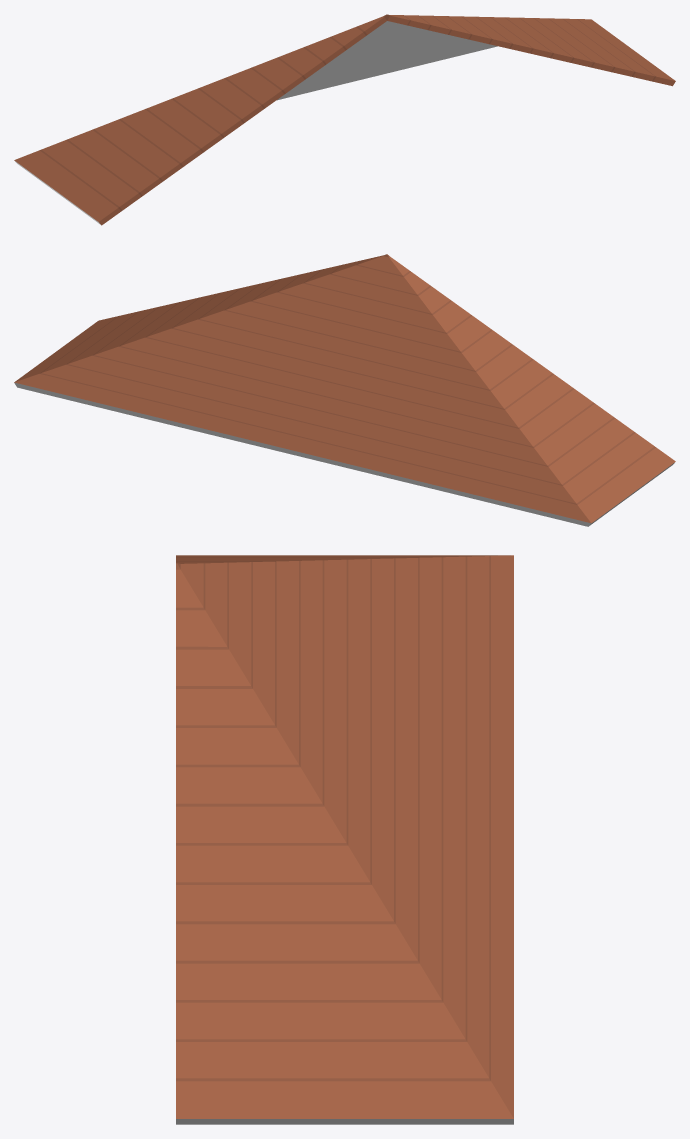
The model's file is Roof5_C5_02.fbx.
3 renders of one model, top to bottom at view 1: azimuth 30°, elevation 25°; view 2: azimuth 150°, elevation 25°; view 3: azimuth 270°, elevation 25°, orthographic. The views are drawn at different scales.
Visible parts, largest first — view 1: Roof5_C5_02; view 2: Roof5_C5_02; view 3: Roof5_C5_02.
Boxes of the visible parts, x1,y1,x2,y2 form: Roof5_C5_02: [14, 14, 675, 225]; Roof5_C5_02: [14, 254, 675, 526]; Roof5_C5_02: [176, 555, 513, 1124].
Bounding box in the file's own units: 1105 × 258 × 280.
